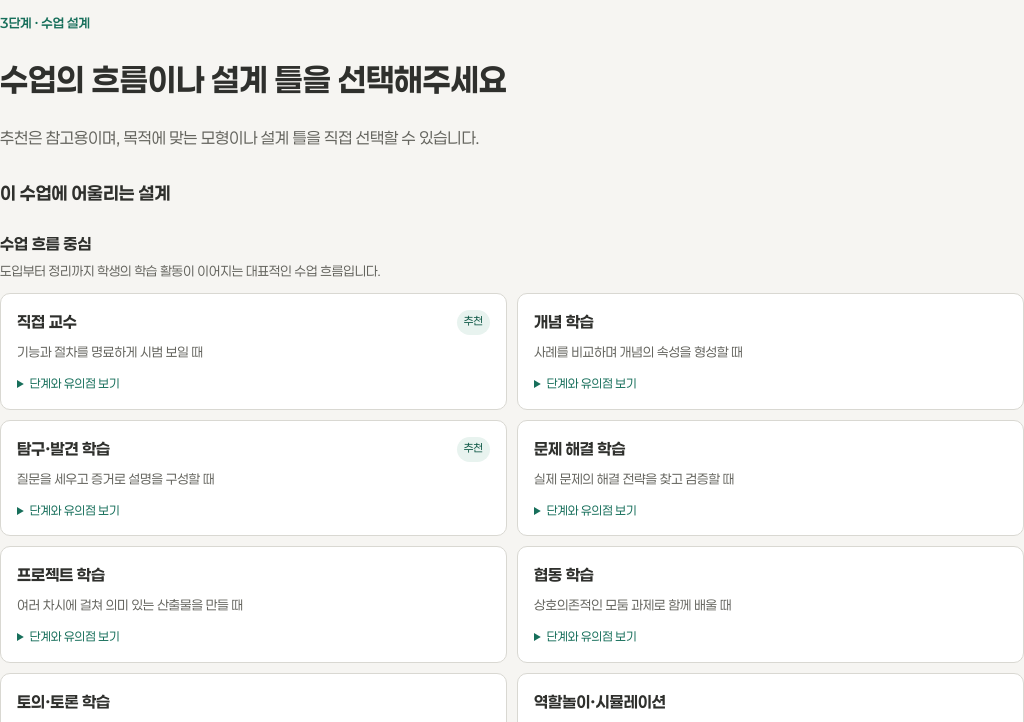
Test: 선택한 수업 모형을 쉬운 말과 수업 흐름으로 설명한다
Click the radio button with aria-label "탐구·발견 학습 선택".
click(64, 448)  # box [0,420,507,536]
(page scrolled)
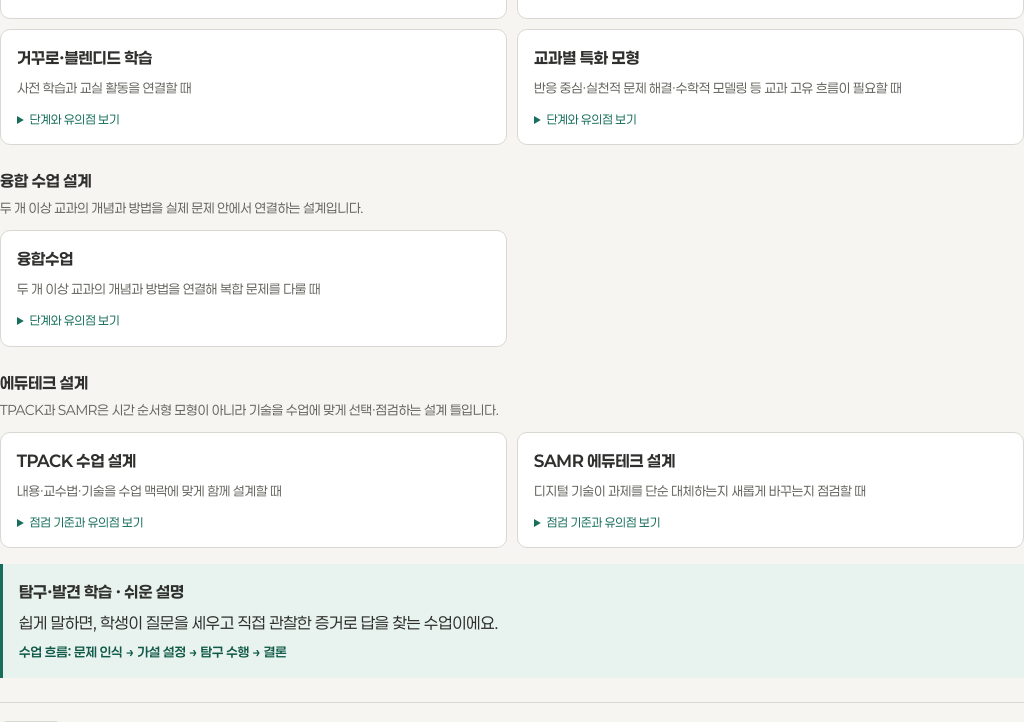
Now the message shows "쉽게 말하면, 학생이 질문을 세우고 직접 관찰한 증거로 답을 찾는 수업이에요.", box [0,564,1023,678]
Now the message shows "문제 인식 → 가설 설정 → 탐구 수행 → 결론", box [0,564,1023,678]
